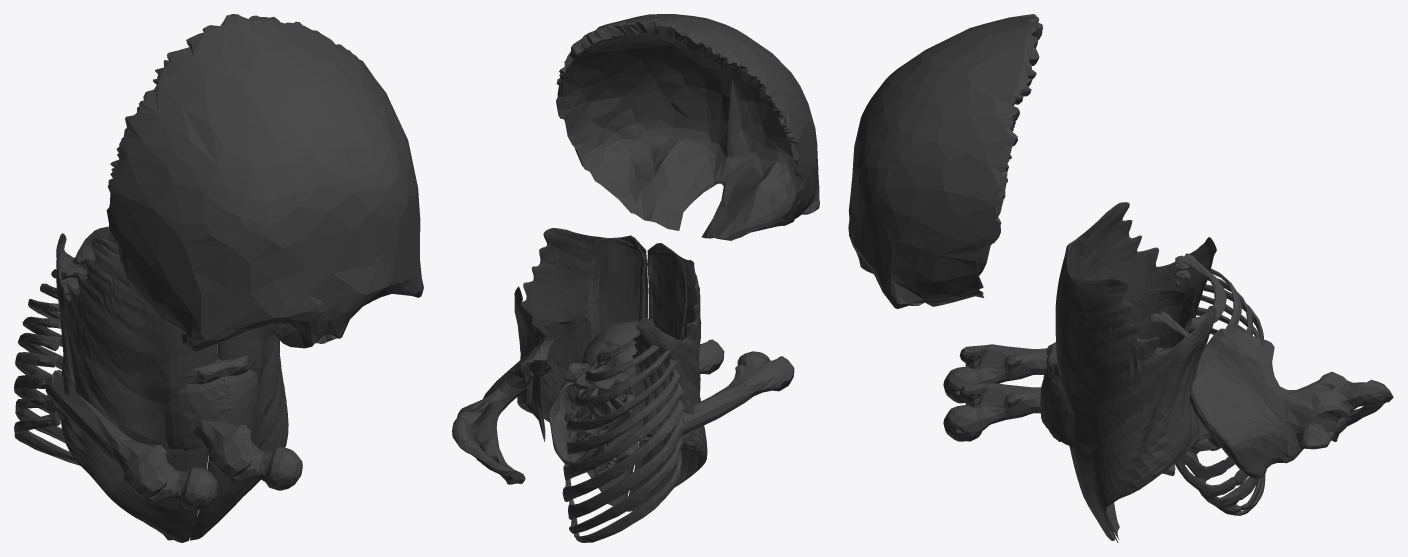
File: sharedassets49.glb
The picture shows the model from 3 angles, left to right: view 1: azimuth 30°, elevation 25°; view 2: azimuth 150°, elevation 25°; view 3: azimuth 270°, elevation 25°; orthographic projection. The views are drawn at different scales.
Visible parts, largest first — view 1: 0158_Frontal__001097, 0193_External oblique, R__1000152, 0203_Femur _thigh_, R_male_000930, 0195_External oblique, L__1000151, 0202_Femur _thigh_, L_male_000854, 0159_Parietal, R__001095, 0157_Parietal, L__001094, 0022_Tenth rib _10_, L__002294, 0008_Manubrium__001162, 0010_Eighth rib _08_, R__002280, 0011_Ninth rib _09_, R__002281, 0018_Sixth rib _06_, R__002278 (+3 smaller); view 2: 0158_Frontal__001097, 0195_External oblique, L__1000151, 0193_External oblique, R__1000152, 0197_Rectus abdominis, L__1000348, 0196_Internal oblique, L__1000220, 0203_Femur _thigh_, R_male_000930, 0192_Rectus abdominis, R__1000349, 0003_Ilium, L__001003, 0029_Seventh rib _07_, L__002291, 0164_Mandible_body_001091, 0078_Occipital__001132, 0028_Sixth rib _06_, L__002290 (+16 smaller); view 3: 0158_Frontal__001097, 0195_External oblique, L__1000151, 0003_Ilium, L__001003, 0193_External oblique, R__1000152, 0006_Ilium, R__001012, 0202_Femur _thigh_, L_male_000854, 0203_Femur _thigh_, R_male_000930, 0194_Internal oblique, R__1000221, 0004_Ischium, R__001010, 0157_Parietal, L__001094, 0005_Pubis, R__001011, 0023_First rib _01_, L__002285 (+4 smaller).
Boxes of the visible parts, bbox=[...] form: 0158_Frontal__001097: bbox=[106, 14, 423, 351]; 0193_External oblique, R__1000152: bbox=[56, 233, 217, 542]; 0203_Femur _thigh_, R_male_000930: bbox=[45, 370, 218, 510]; 0195_External oblique, L__1000151: bbox=[190, 325, 288, 540]; 0202_Femur _thigh_, L_male_000854: bbox=[193, 420, 302, 490]; 0159_Parietal, R__001095: bbox=[163, 358, 229, 451]; 0157_Parietal, L__001094: bbox=[216, 343, 259, 434]; 0022_Tenth rib _10_, L__002294: bbox=[15, 411, 80, 465]; 0008_Manubrium__001162: bbox=[181, 356, 255, 384]; 0010_Eighth rib _08_, R__002280: bbox=[14, 374, 60, 419]; 0011_Ninth rib _09_, R__002281: bbox=[15, 395, 64, 442]; 0018_Sixth rib _06_, R__002278: bbox=[18, 333, 63, 369]; 0158_Frontal__001097: bbox=[556, 14, 819, 240]; 0195_External oblique, L__1000151: bbox=[514, 228, 648, 497]; 0193_External oblique, R__1000152: bbox=[627, 243, 707, 511]; 0197_Rectus abdominis, L__1000348: bbox=[588, 238, 646, 505]; 0196_Internal oblique, L__1000220: bbox=[523, 303, 610, 504]; 0203_Femur _thigh_, R_male_000930: bbox=[667, 351, 794, 436]; 0192_Rectus abdominis, R__1000349: bbox=[628, 250, 687, 510]; 0003_Ilium, L__001003: bbox=[469, 340, 554, 440]; 0029_Seventh rib _07_, L__002291: bbox=[562, 399, 683, 501]; 0164_Mandible_body_001091: bbox=[549, 381, 634, 465]; 0078_Occipital__001132: bbox=[582, 321, 639, 396]; 0028_Sixth rib _06_, L__002290: bbox=[563, 382, 682, 480]; 0158_Frontal__001097: bbox=[848, 14, 1042, 309]; 0195_External oblique, L__1000151: bbox=[1055, 261, 1216, 540]; 0003_Ilium, L__001003: bbox=[1190, 327, 1316, 478]; 0193_External oblique, R__1000152: bbox=[1055, 202, 1216, 535]; 0006_Ilium, R__001012: bbox=[1190, 327, 1307, 478]; 0202_Femur _thigh_, L_male_000854: bbox=[943, 382, 1041, 441]; 0203_Femur _thigh_, R_male_000930: bbox=[943, 344, 1163, 403]; 0194_Internal oblique, R__1000221: bbox=[1112, 284, 1199, 520]; 0004_Ischium, R__001010: bbox=[1306, 371, 1393, 417]; 0157_Parietal, L__001094: bbox=[1040, 366, 1074, 447]; 0005_Pubis, R__001011: bbox=[1304, 407, 1362, 447]; 0023_First rib _01_, L__002285: bbox=[1175, 253, 1226, 331].
Size of the model in its own units: 0.175 by 0.3199 by 0.3075.
1 material, 1 textured.
